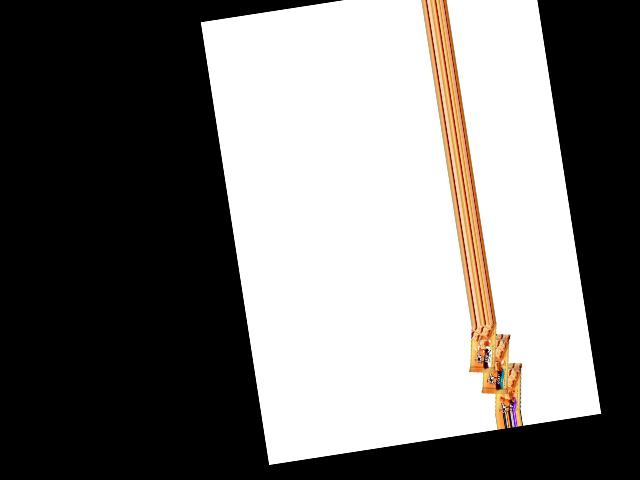chocolate: (486, 357, 526, 414)
